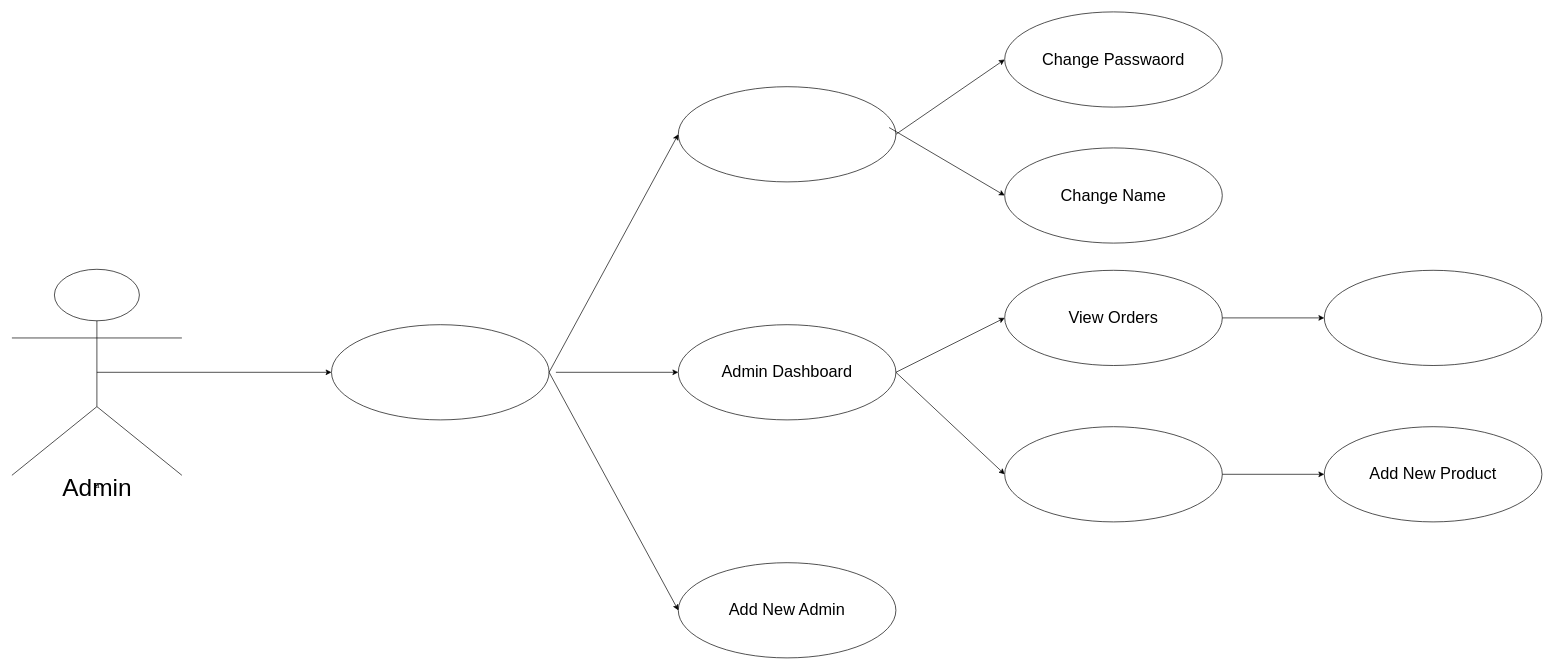
Image size: 1554x670. Some labels were removed from this diagram. The centre of each missing label's shape, as x and y in pixels:
"Change Order Status" belongs at point 1433,318.
"Login" belongs at point 440,372.
"Profile Setting" belongs at point 787,134.
"View Products" belongs at point 1113,474.
